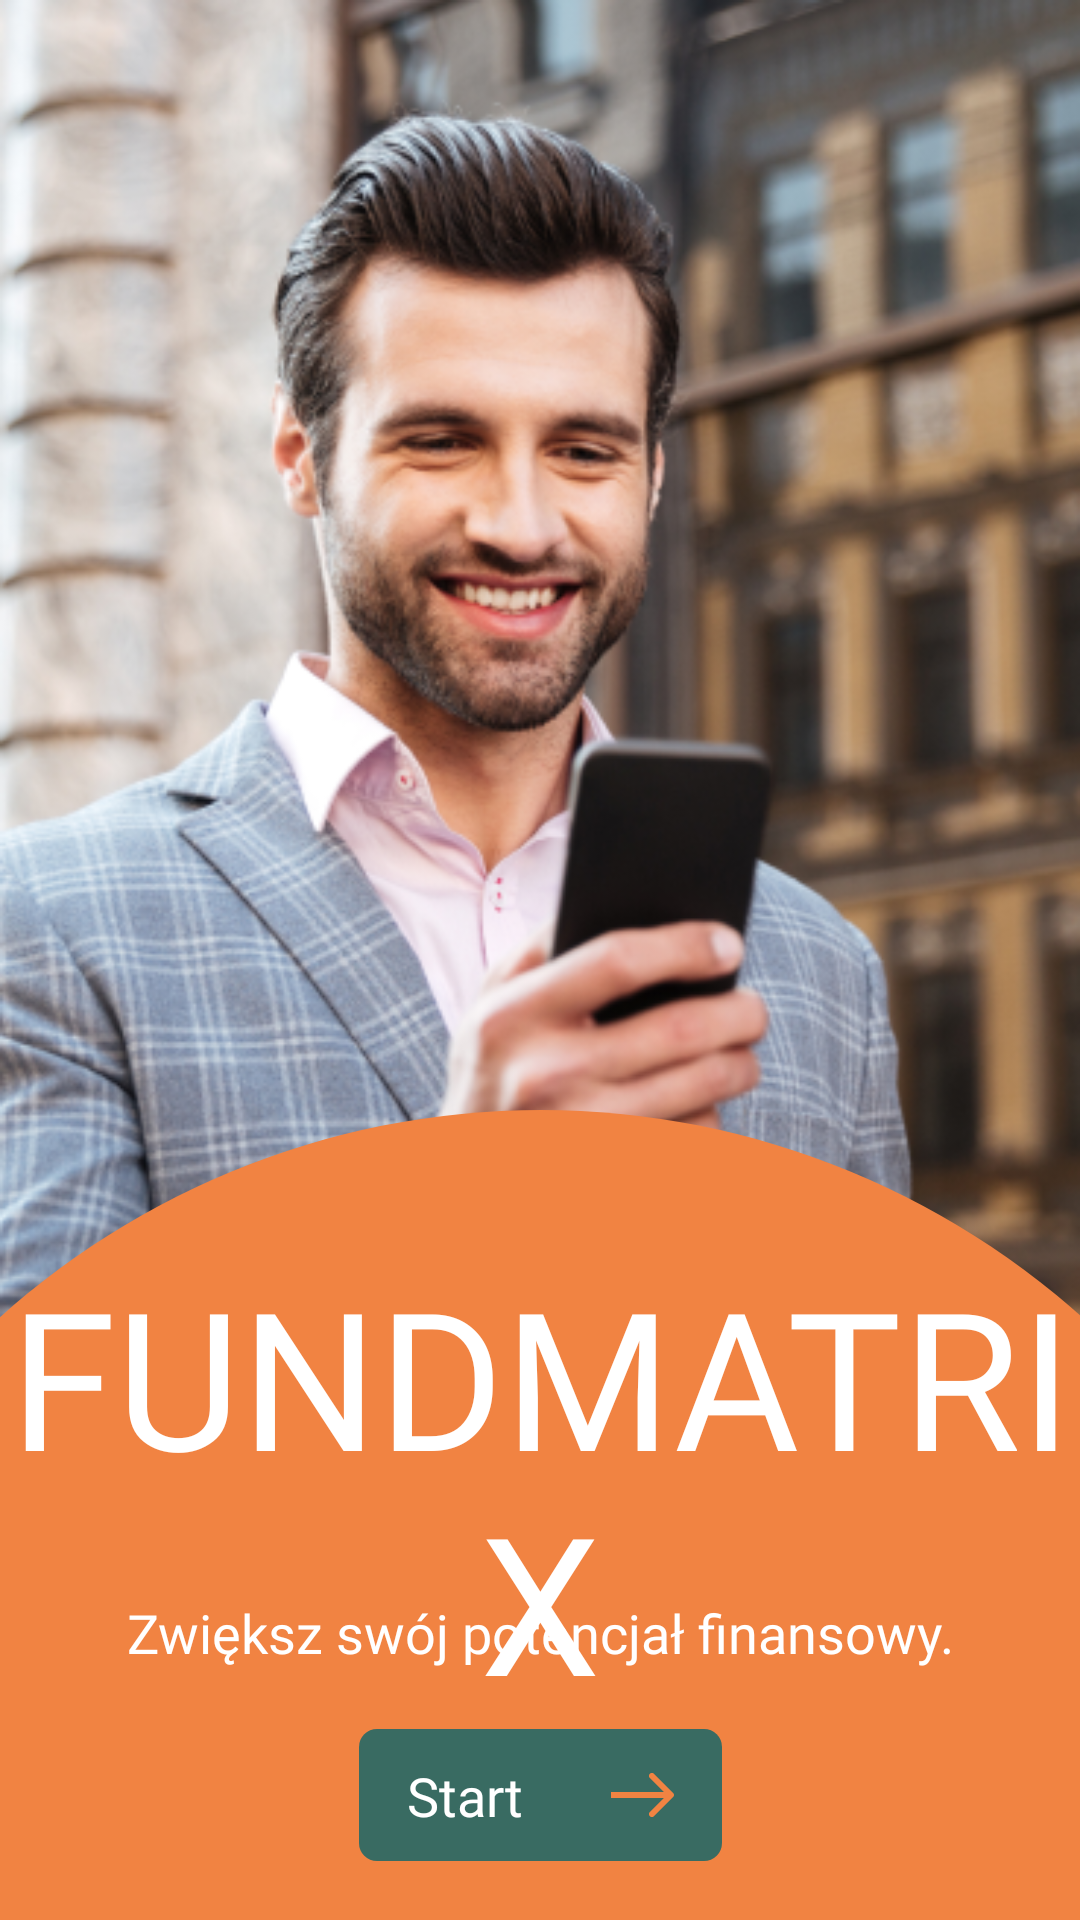

Screen size 1080w x 1920h. Icon name, then its box in pixels as (left=x1, top=y1, right=x2, bottom=y2):
arrow: (left=611, top=1773, right=674, bottom=1817)
